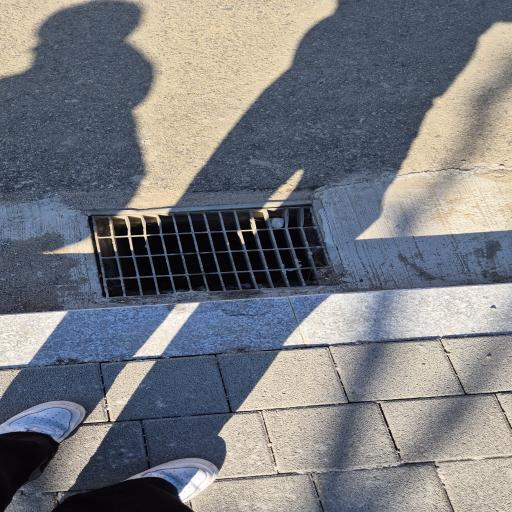drain: (89, 202, 341, 299)
